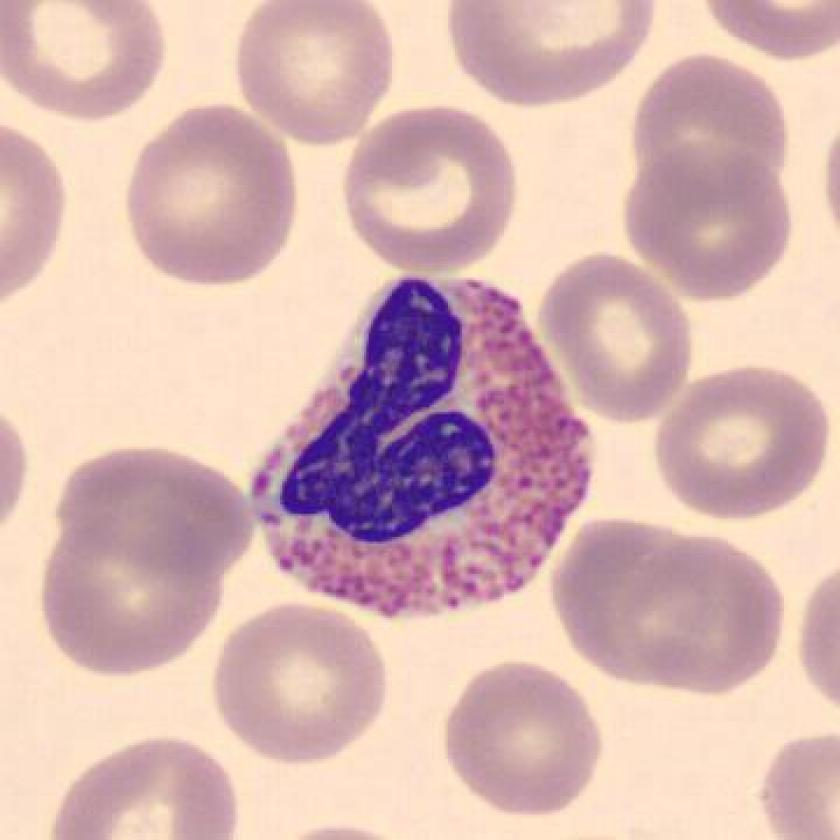eosinophil: (239, 263, 608, 628)
